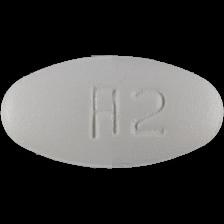43598-316: (0, 0, 224, 224)
